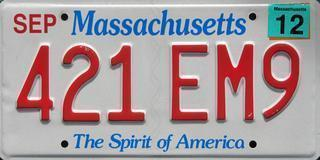placa de veiculo: (8, 0, 310, 152)
